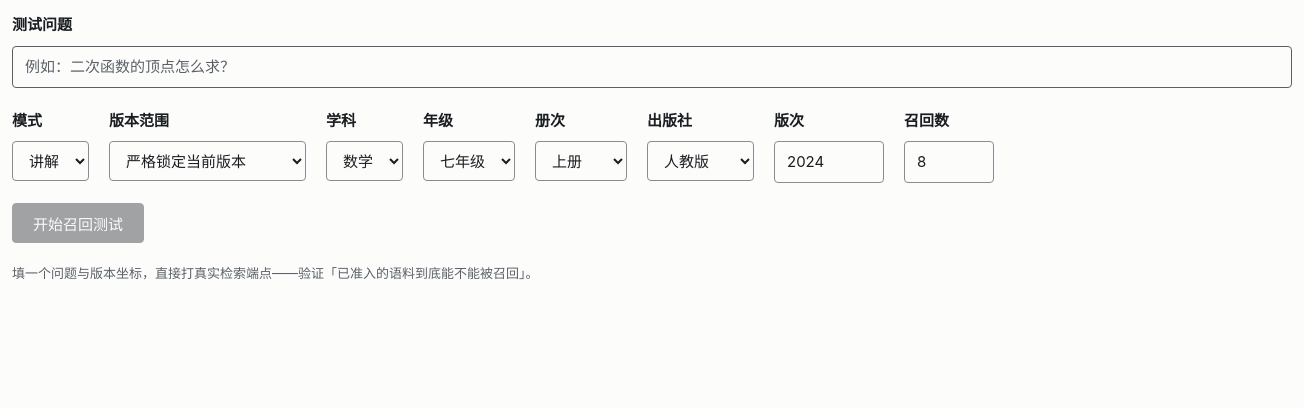
Scenario: 召回测试 › 检索失败应给出可执行的下一步，而不是「出错了」
This screenshot has width=1304, height=408.
Type "二次函数" into the field labelled "测试问题" at (652, 66), box [12,46,1292,88]
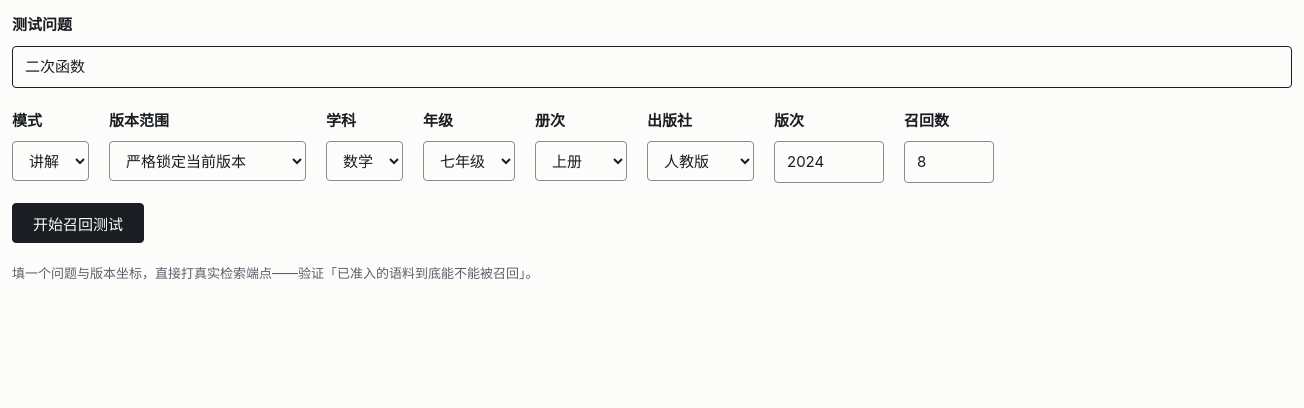
Click the button "开始召回测试" at (78, 223), box [12,203,144,243]
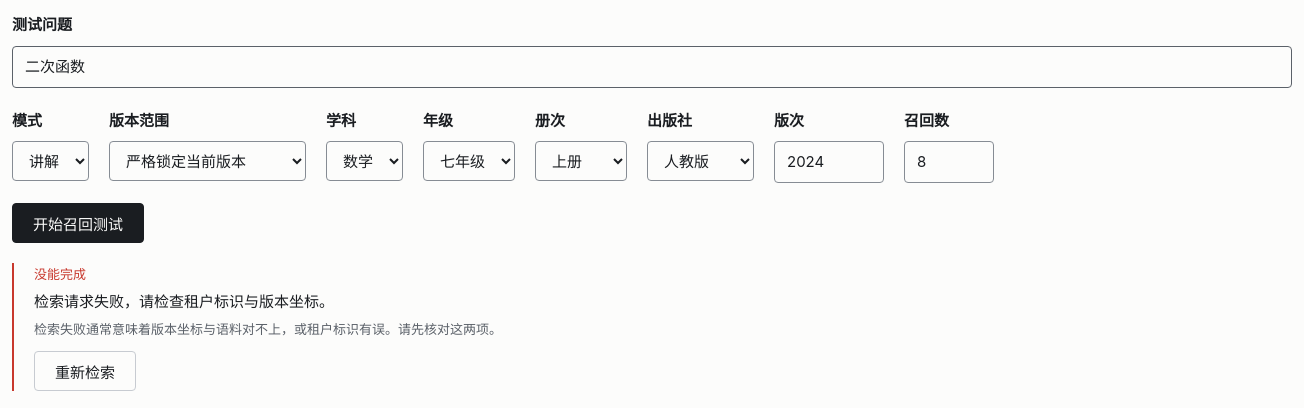
Expected: the message "没能完成 检索请求失败，请检查租户标识与版本坐标。 检索失败通常意味着版本坐标与语料对不上，或租户标识有误。请先核对这两项。 重新检索" is shown, [12,263,1292,391]
Expected: the text "检索失败通常意味着版本坐标与语料对不上，或租户标识有误。请先核对这两项。" is shown, [34,321,502,337]
